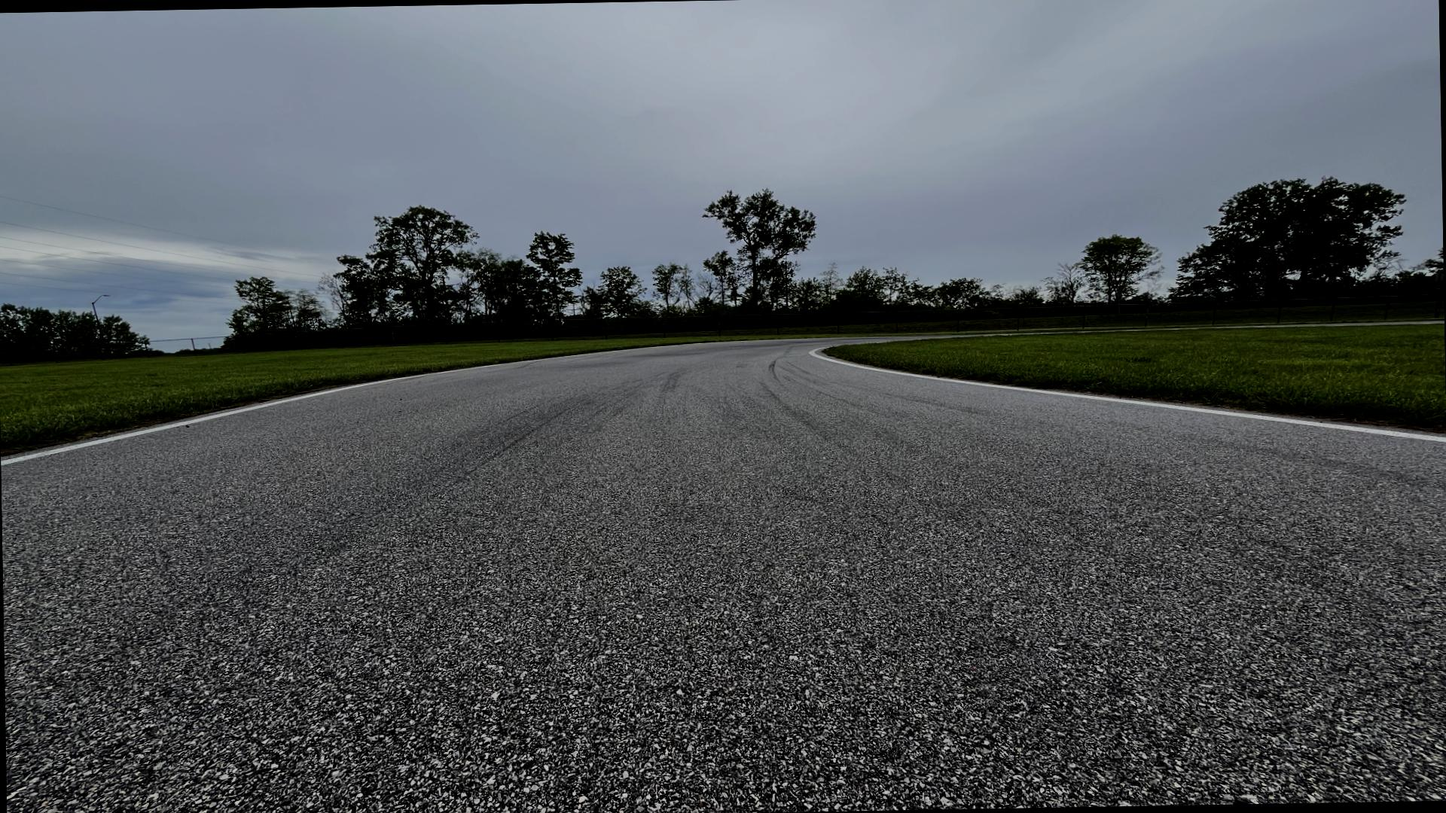white-line: (825, 358, 1445, 443), (1, 391, 327, 465)
